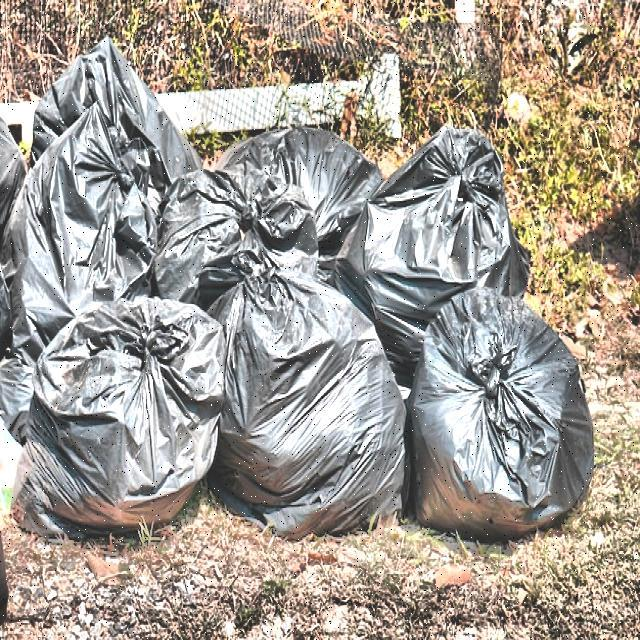Trashbag: (33, 306, 219, 536), (231, 294, 402, 526), (421, 304, 586, 531), (11, 107, 158, 329), (361, 144, 523, 318), (165, 164, 321, 313)
